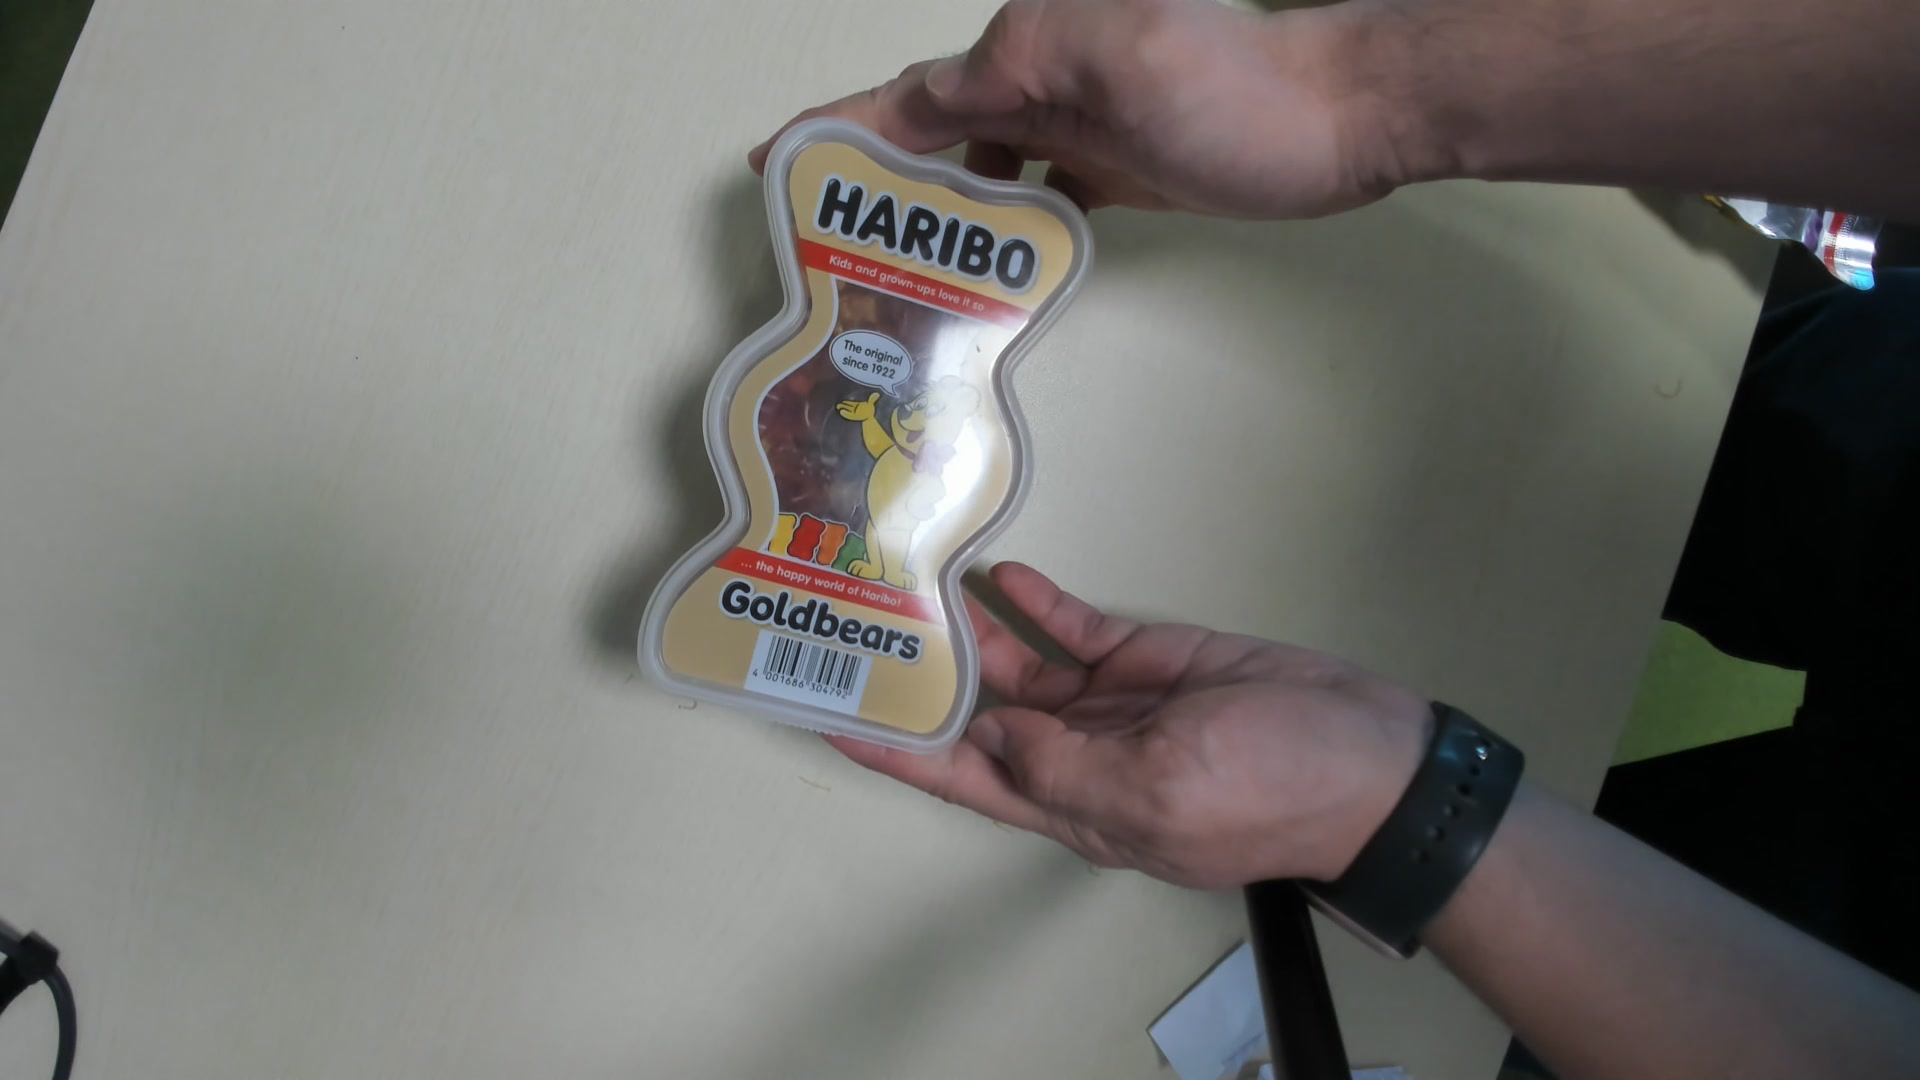SweetsChocolatesOthers_400-499g_NonHalal_Nonhealthy: (628, 129, 1095, 749)
